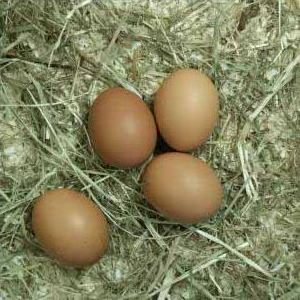egg: (32, 188, 109, 267), (140, 151, 223, 223), (154, 68, 219, 153), (89, 88, 158, 168)
